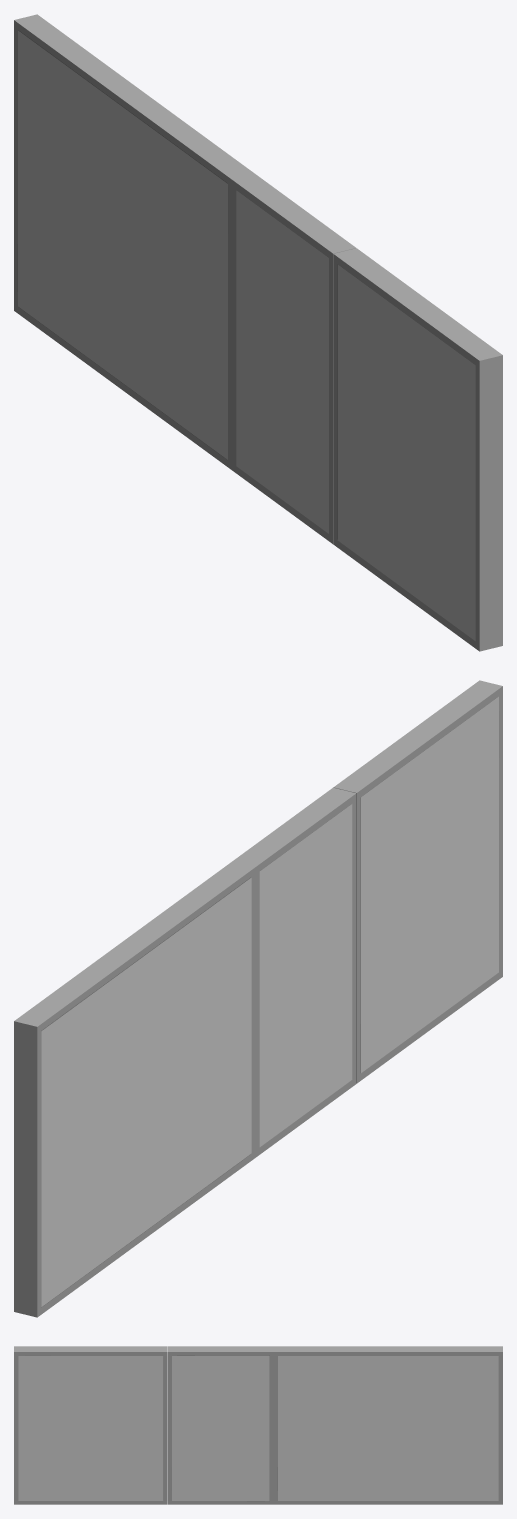
The model's file is Entrance_Window.fbx.
3 views of the same model, one above another, from view 1: azimuth 30°, elevation 25°; view 2: azimuth 150°, elevation 25°; view 3: azimuth 270°, elevation 25° (orthographic). The views are drawn at different scales.
Visible parts, largest first — view 1: Entrance_window.009, Entrance_window.011, Entrance_window.010; view 2: Entrance_window.009, Entrance_window.011, Entrance_window.010; view 3: Entrance_window.009, Entrance_window.011, Entrance_window.010.
Part boxes in pixels (x1,y1,x2,y2): Entrance_window.009: [14, 14, 254, 470]; Entrance_window.011: [333, 248, 502, 651]; Entrance_window.010: [232, 174, 355, 543]; Entrance_window.009: [14, 861, 255, 1317]; Entrance_window.011: [333, 680, 502, 1083]; Entrance_window.010: [232, 787, 356, 1157]; Entrance_window.009: [274, 1346, 502, 1504]; Entrance_window.011: [14, 1346, 167, 1504]; Entrance_window.010: [168, 1346, 273, 1504].
Size of the model in its own units: 10 by 119 by 345.
2 materials, 1 textured.
